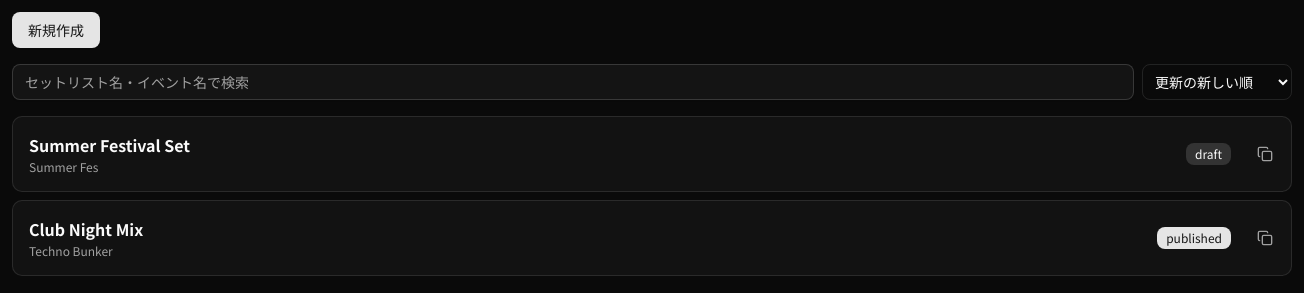
it: SetlistList 検索 › tells the DJ when nothing matches the query
Check: the text "Summer Festival Set" is shown, box [29, 133, 190, 157]
Type "存在しない" into the search field named "セットリストを検索".
click(573, 82); type("存在しない")  # box [12, 64, 1134, 100]
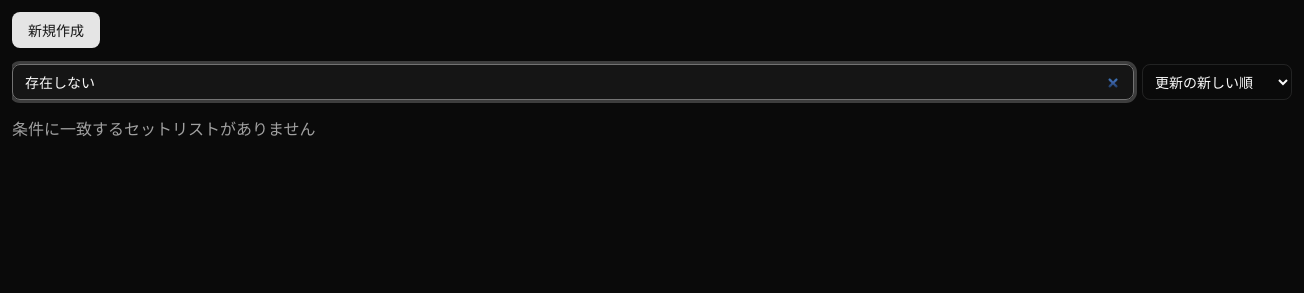
Check: no list items are shown
Check: the text "条件に一致するセットリストがありません" is shown, box [12, 116, 316, 140]
